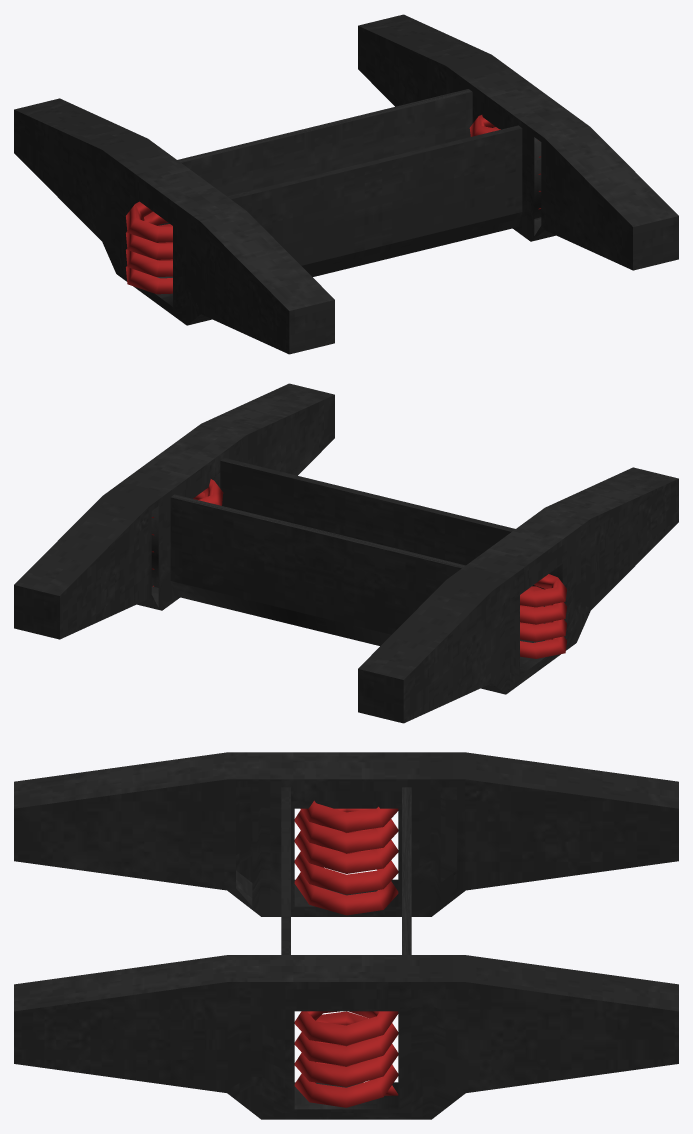
File: bogie_01.gltf
3 renders of one model, top to bottom at view 1: azimuth 30°, elevation 25°; view 2: azimuth 150°, elevation 25°; view 3: azimuth 270°, elevation 25°, orthographic. The views are drawn at different scales.
Visible parts, largest first — view 1: bogie_01; view 2: bogie_01; view 3: bogie_01.
Boxes of the visible parts, x1=… form: bogie_01: x1=14, y1=14, x2=678, y2=354; bogie_01: x1=14, y1=383, x2=678, y2=723; bogie_01: x1=14, y1=752, x2=678, y2=1119.
Bounding box in the file's own units: 3.2 × 0.7944 × 3.48.
